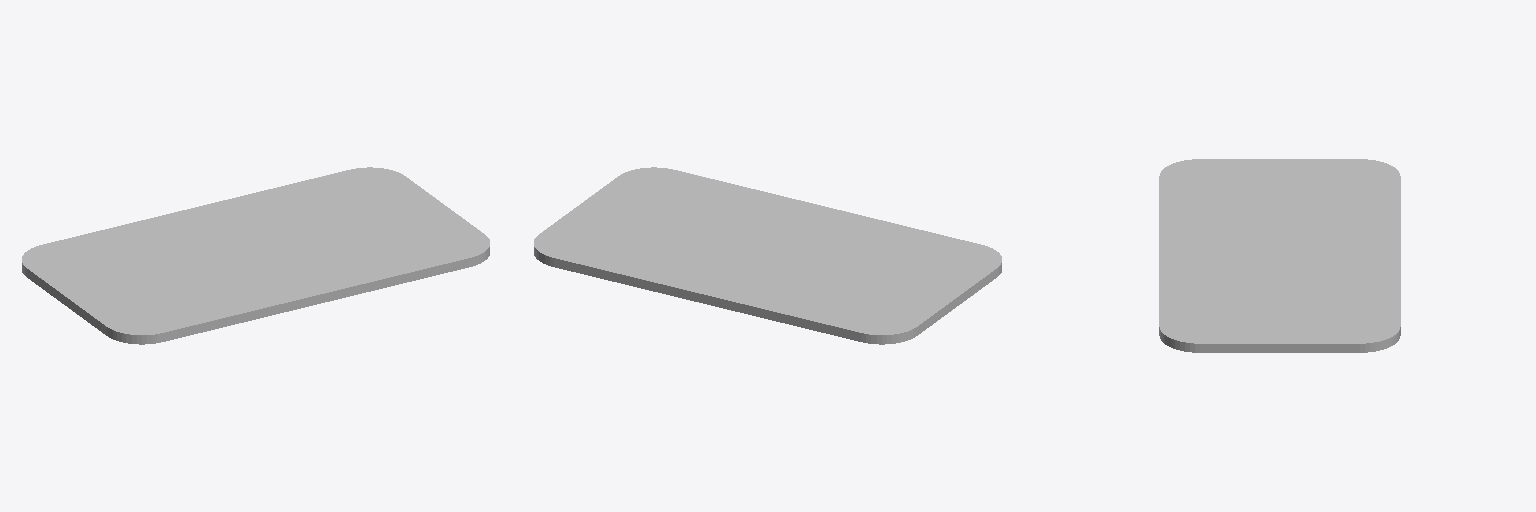
File: rugDoormat.obj
3 renders of one model, left to right at view 1: azimuth 30°, elevation 25°; view 2: azimuth 150°, elevation 25°; view 3: azimuth 270°, elevation 25°, orthographic.
Parts seen in each view (by area): view 1: rugDoormat; view 2: rugDoormat; view 3: rugDoormat.
Part boxes in pixels (x1,y1,x2,y2): rugDoormat: (22, 167, 489, 344); rugDoormat: (534, 167, 1001, 344); rugDoormat: (1159, 159, 1400, 352).
Bounding box in the file's own units: 0.4293 × 0.01 × 0.237.